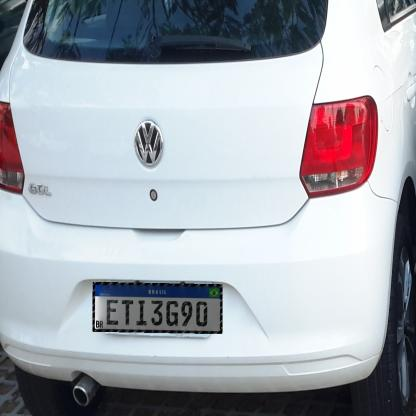PlacaM: (92, 282, 222, 334)
